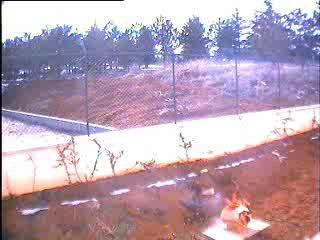fire: (221, 188, 251, 229)
